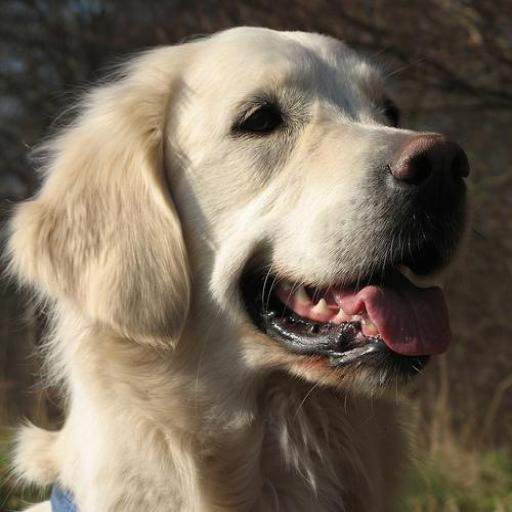dog_face: (18, 32, 465, 415)
